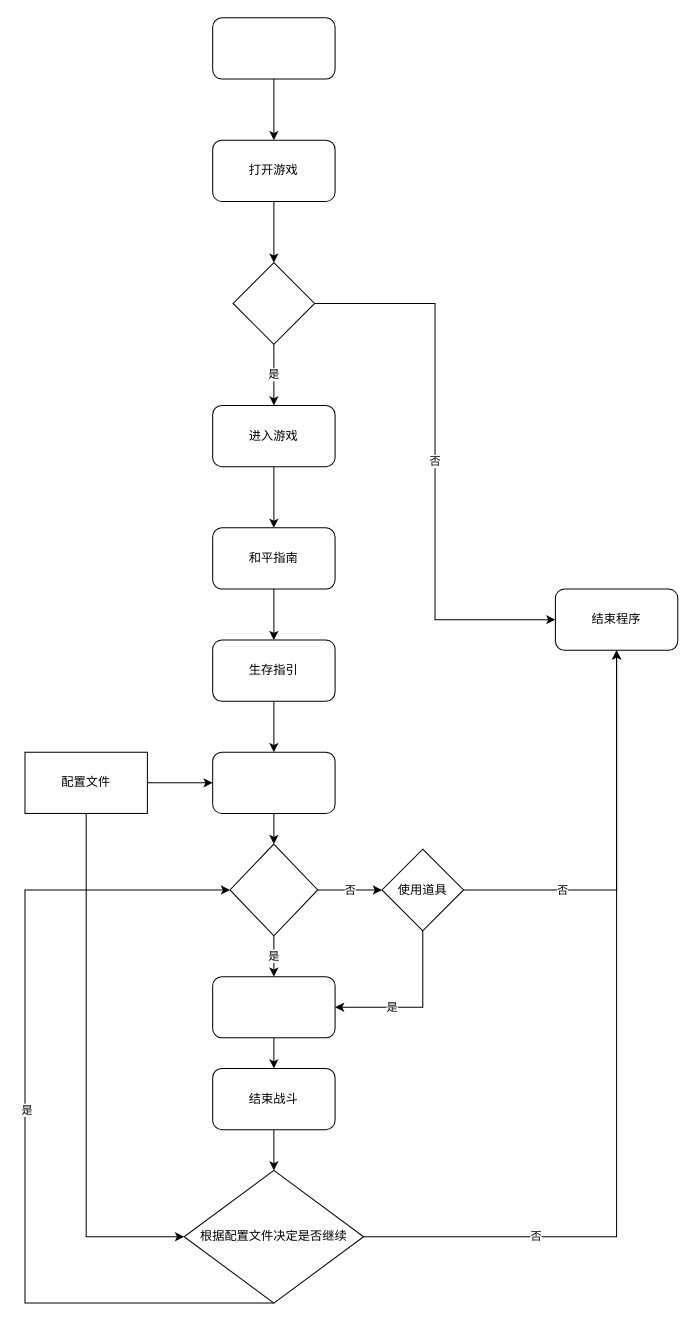
The diagram is 696 pixels wide and 1329 high, and some of its shapes have lost their labels. The shapes that lost their labels are listed below. From the top down, each one's centre as x and y in pixels, then its label:
point 273,48: 获取游戏路径
point 273,303: 是否已登录
point 273,782: 根据配置打开副本
point 273,889: 体力是否足够
point 273,1007: 开始战斗
